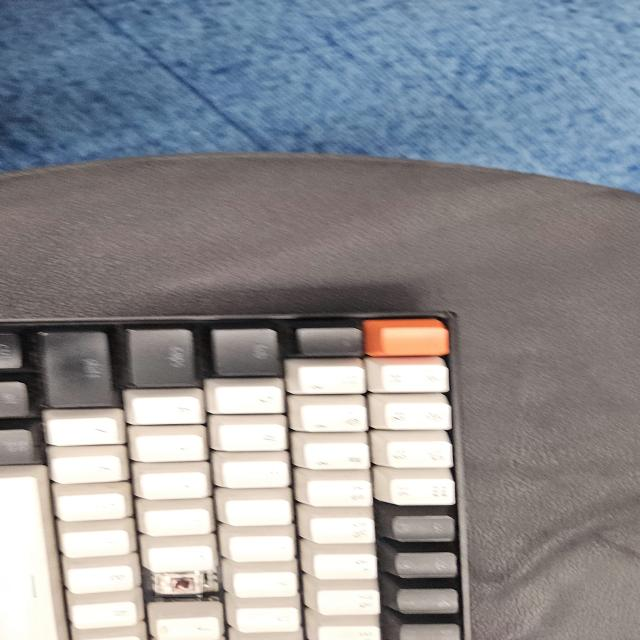C: (155, 574, 203, 597)
